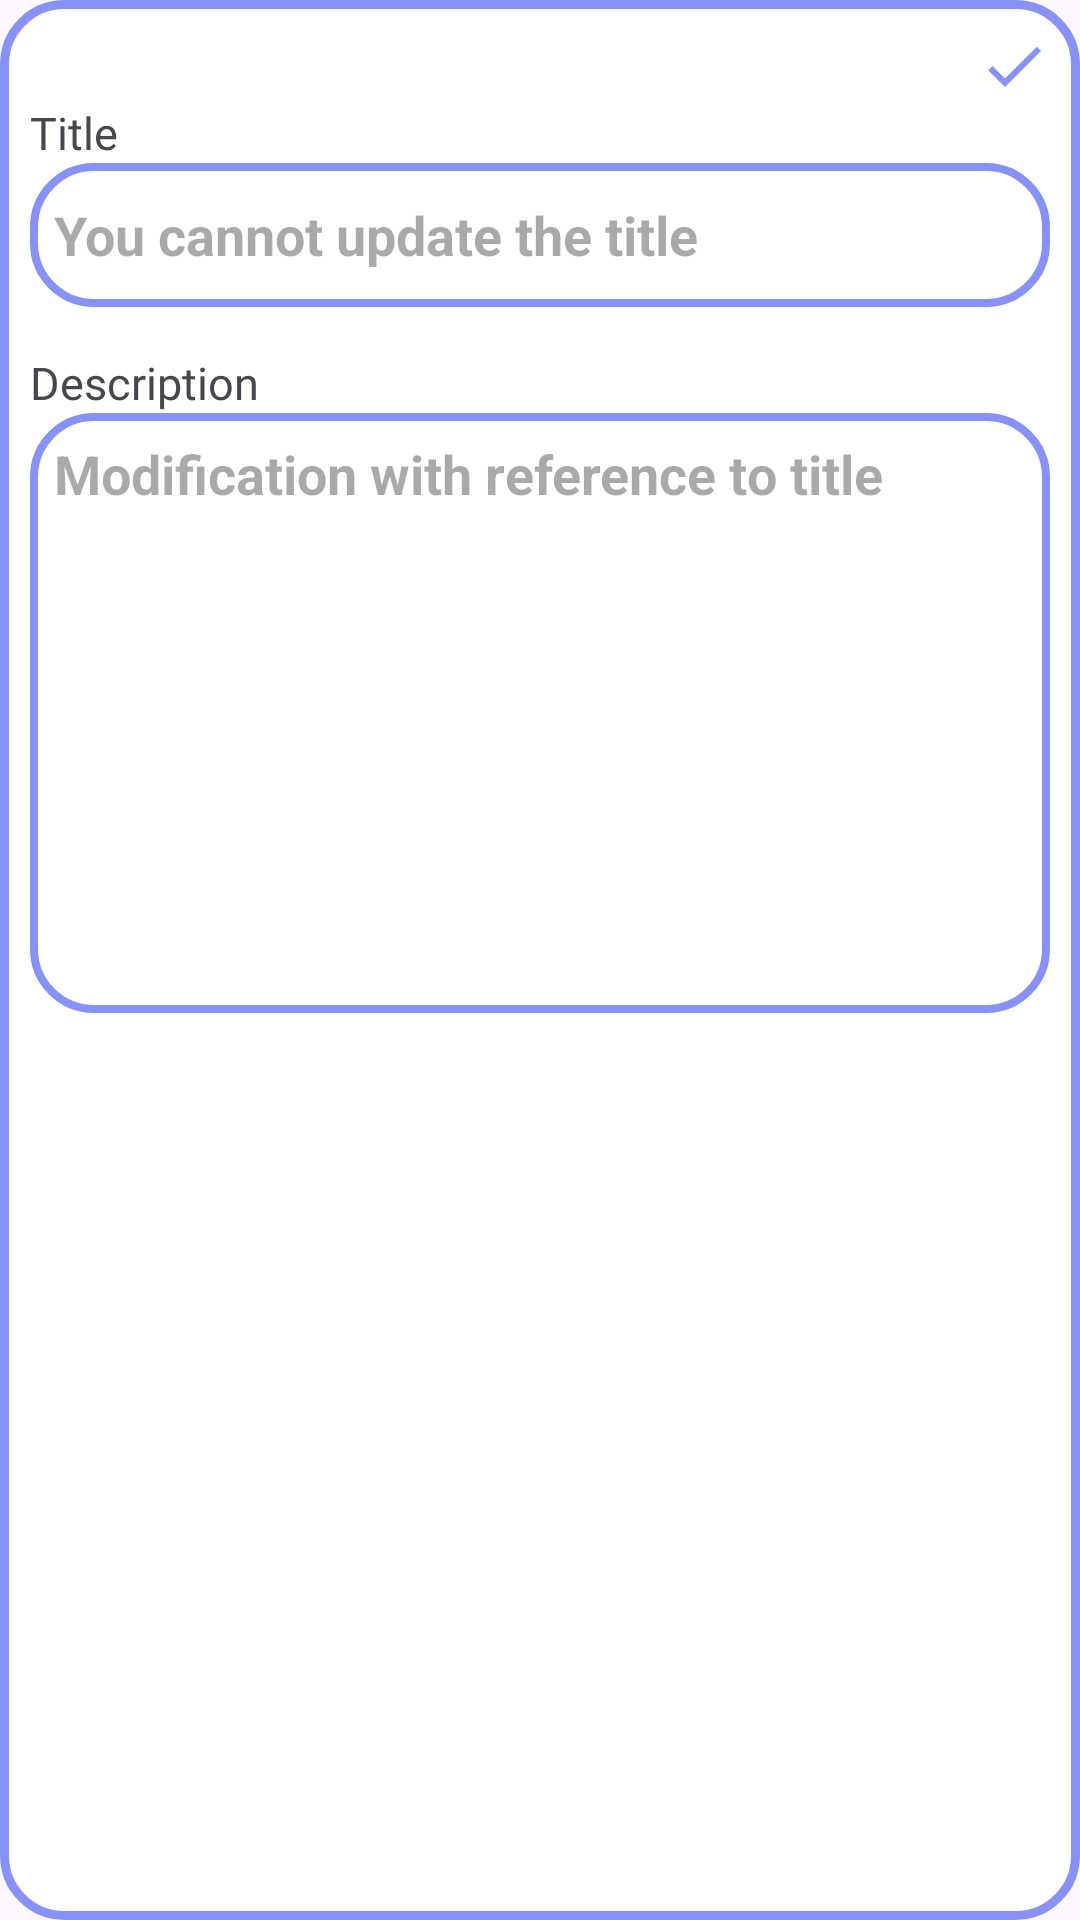

Locate icon controls on the screen. Image size 1080 x 1920, boxes as (x1, y1, x2, y2).
save note: (988, 47, 1041, 87)
